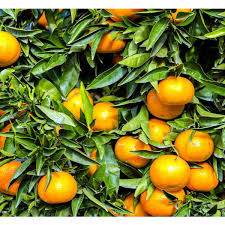orange: (55, 82, 93, 124), (89, 99, 123, 138), (157, 76, 196, 105)
